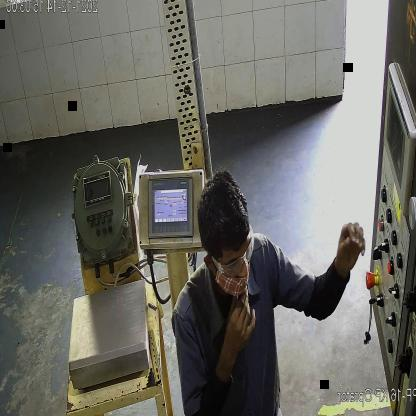goggles: (216, 231, 259, 273)
